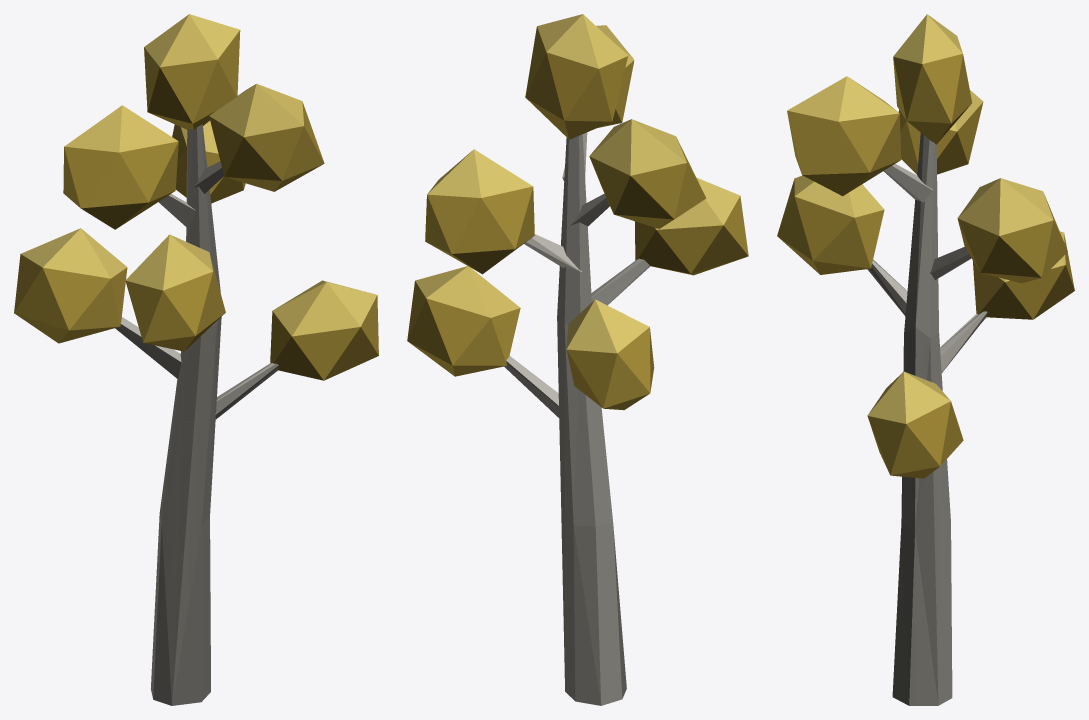
The picture shows the model from 3 angles, left to right: view 1: azimuth 30°, elevation 25°; view 2: azimuth 150°, elevation 25°; view 3: azimuth 270°, elevation 25°; orthographic projection.
Parts seen in each view (by area): view 1: WK_Tree_Birch_GoldenLean_LOD1_Balanced; view 2: WK_Tree_Birch_GoldenLean_LOD1_Balanced; view 3: WK_Tree_Birch_GoldenLean_LOD1_Balanced.
Boxes of the visible parts, <box> form: WK_Tree_Birch_GoldenLean_LOD1_Balanced: <box>14,14,378,705</box>; WK_Tree_Birch_GoldenLean_LOD1_Balanced: <box>407,14,748,705</box>; WK_Tree_Birch_GoldenLean_LOD1_Balanced: <box>777,14,1074,705</box>.
Size of the model in its own units: 3.27 by 7.05 by 2.77.
